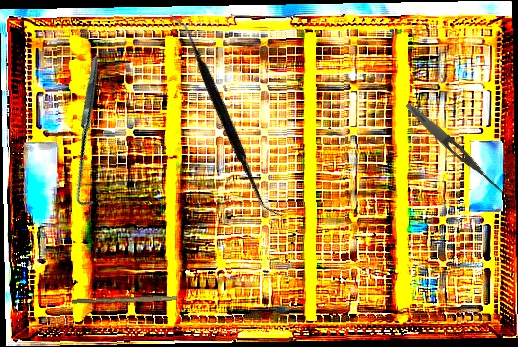Dressing Forceps: (402, 100, 508, 196)
Hook Surgical: (13, 55, 169, 211)
Scalpel Handle: (71, 293, 178, 306)
Spatula Surgical: (109, 13, 343, 219)
